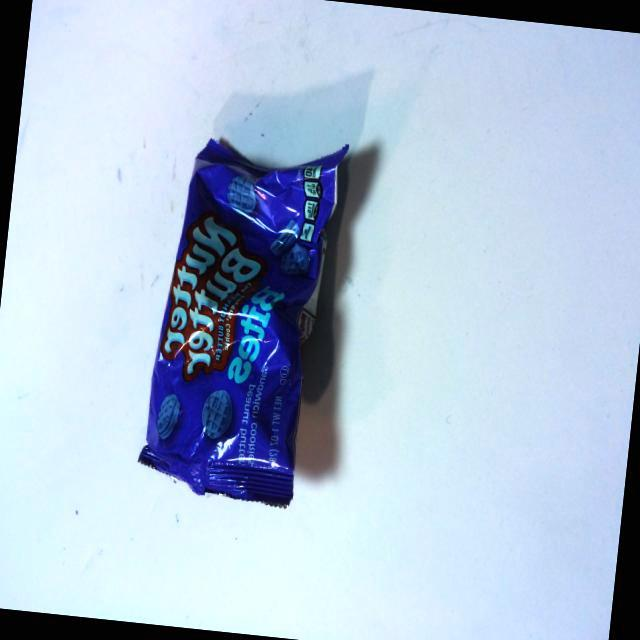plastic: (124, 127, 393, 550)
